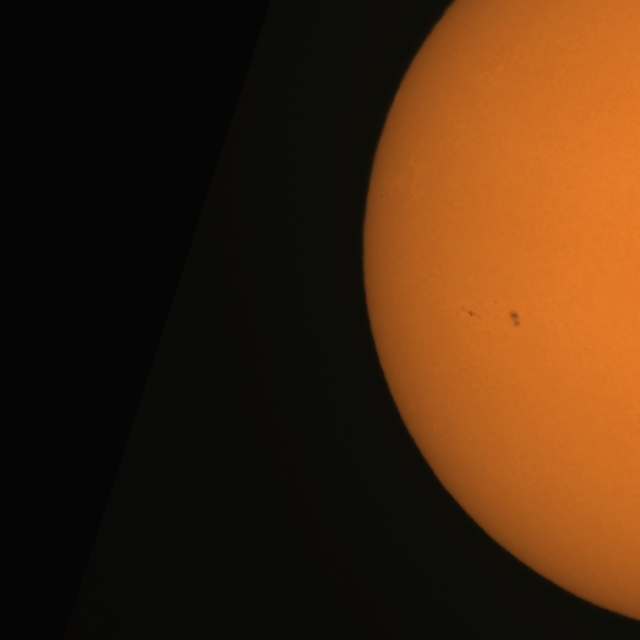sunspot: (456, 306, 480, 320), (508, 309, 522, 328), (493, 300, 498, 305)
